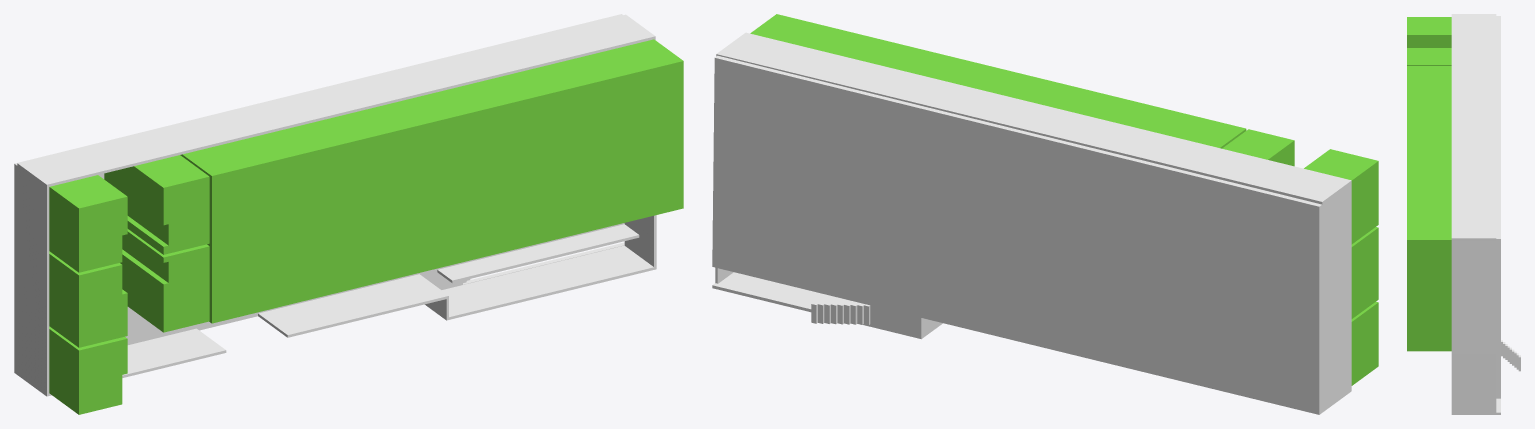
Rendered from Edificio B - Piso 2.obj.
The picture shows the model from 3 angles, left to right: view 1: azimuth 30°, elevation 25°; view 2: azimuth 150°, elevation 25°; view 3: azimuth 270°, elevation 25°; orthographic projection. The views are drawn at different scales.
Visible parts, largest first — view 1: Cuerpo 3, Cuerpo 8, Cuerpo 5, Cuerpo 4, Cuerpo6, Cuerpo 2, Cuerpo 1, Cuerpo 0, Cuerpo 9; view 2: Cuerpo 0, Cuerpo 8, Cuerpo 3, Cuerpo6, Cuerpo 2, Cuerpo 1, Cuerpo 5, Cuerpo 9; view 3: Cuerpo 8, Cuerpo 3, Cuerpo 0, Cuerpo6, Cuerpo 5, Cuerpo 9.
Boxes of the visible parts, x1,y1,x2,y2 form: Cuerpo 3: (180,39,683,323); Cuerpo 8: (17,14,656,396); Cuerpo 5: (104,155,209,254); Cuerpo 4: (120,229,209,332); Cuerpo6: (49,175,127,272); Cuerpo 2: (49,251,127,347); Cuerpo 1: (49,326,127,414); Cuerpo 0: (14,14,624,374); Cuerpo 9: (437,224,639,285); Cuerpo 0: (712,55,1322,414); Cuerpo 8: (715,32,1351,412); Cuerpo 3: (750,14,1246,148); Cuerpo6: (1304,149,1378,244); Cuerpo 2: (1351,227,1378,318); Cuerpo 1: (1351,301,1378,385); Cuerpo 5: (1222,129,1294,166); Cuerpo 9: (811,303,880,326); Cuerpo 8: (1451,14,1496,414); Cuerpo 3: (1407,66,1451,351); Cuerpo 0: (1496,16,1500,414); Cuerpo6: (1407,17,1451,47); Cuerpo 5: (1407,48,1451,65); Cuerpo 9: (1475,340,1520,398).
Bounding box in the file's own units: 11.9 × 4.35 × 2.55.
